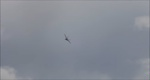maybay_muctieu: (61, 33, 72, 43)
